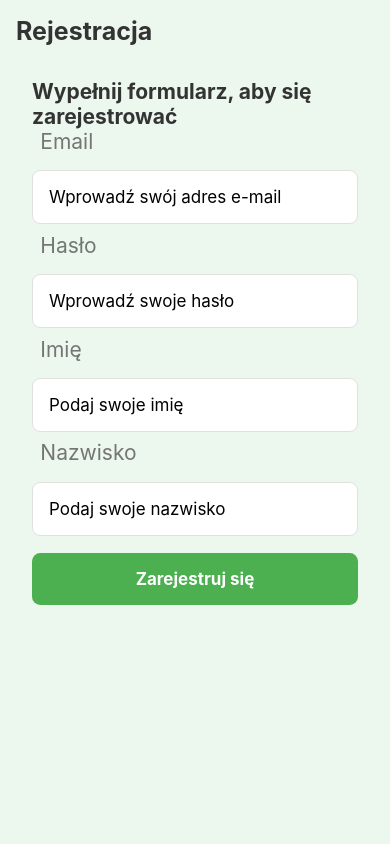
Test: Komponent Zarejestruj się › Wyświetla ogólny błąd gdy odpowiedź serwera nie zawiera szczegółów
Type "test@example.com" into the field with placeholder "Wprowadź swój adres e-mail" at coordinates (195, 197), box x1=32 y1=170 x2=358 y2=224
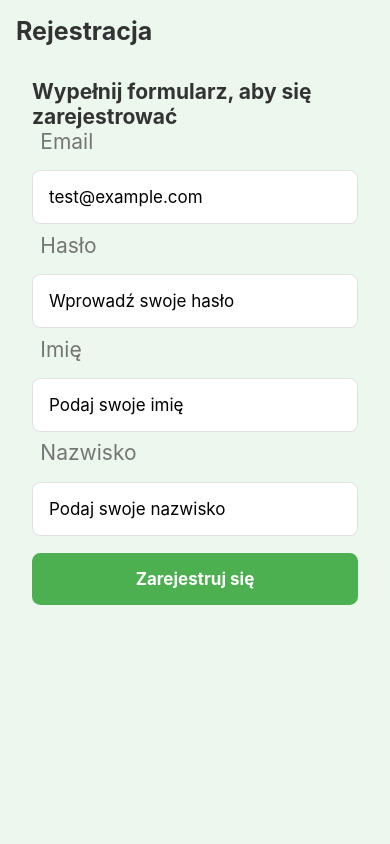
Type "testpassword" into the password field with placeholder "Wprowadź swoje hasło" at coordinates (195, 301), box x1=32 y1=274 x2=358 y2=328
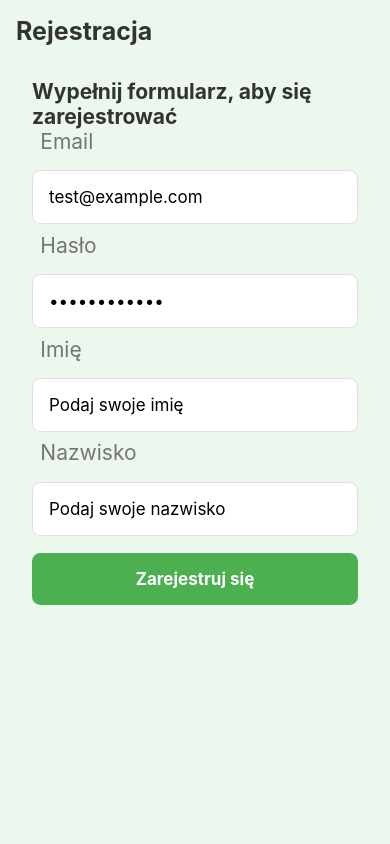
Type "Jan" into the field with placeholder "Podaj swoje imię" at coordinates (195, 405), box x1=32 y1=378 x2=358 y2=432
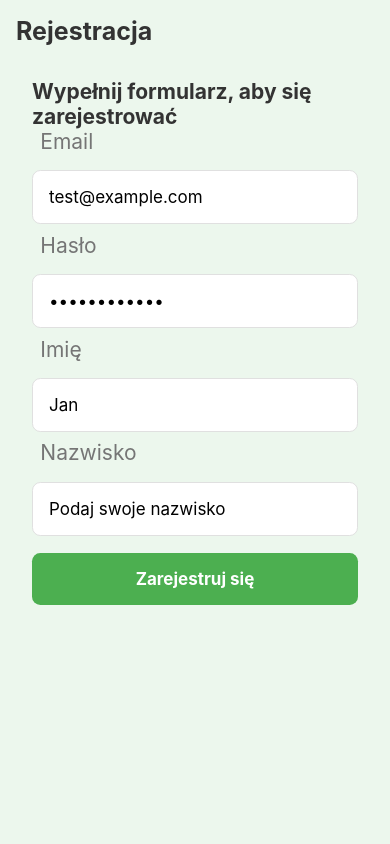
Type "Kowalski" into the field with placeholder "Podaj swoje nazwisko" at coordinates (195, 509), box x1=32 y1=482 x2=358 y2=536
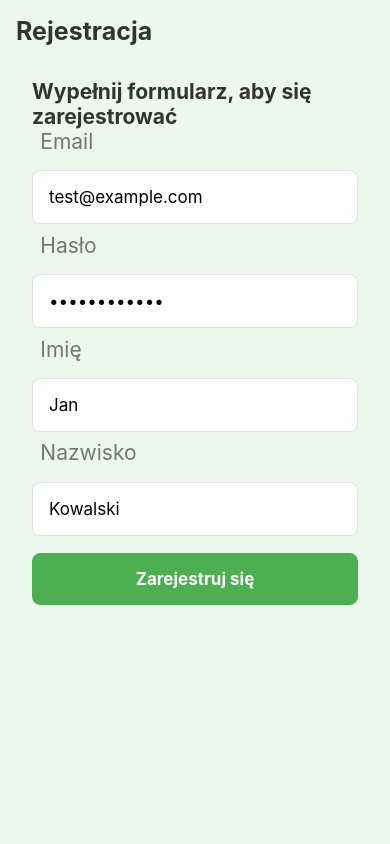
Click the text "Zarejestruj się" at coordinates (195, 579), box x1=136 y1=569 x2=254 y2=589
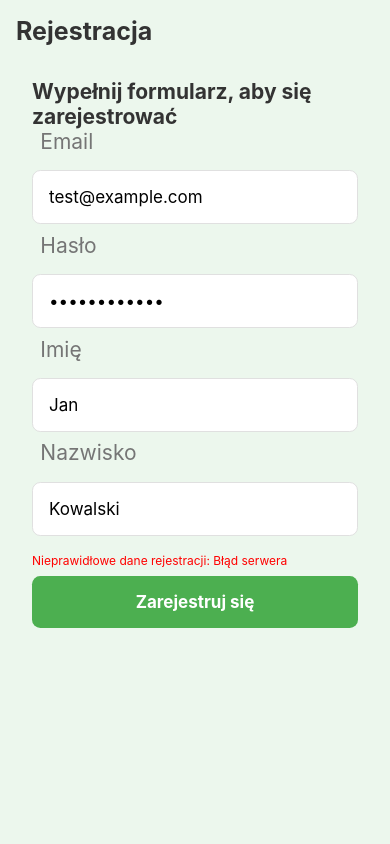
Check: the text "Nieprawidłowe dane rejestracji: Błąd serwera" is shown, box x1=32 y1=553 x2=287 y2=568
